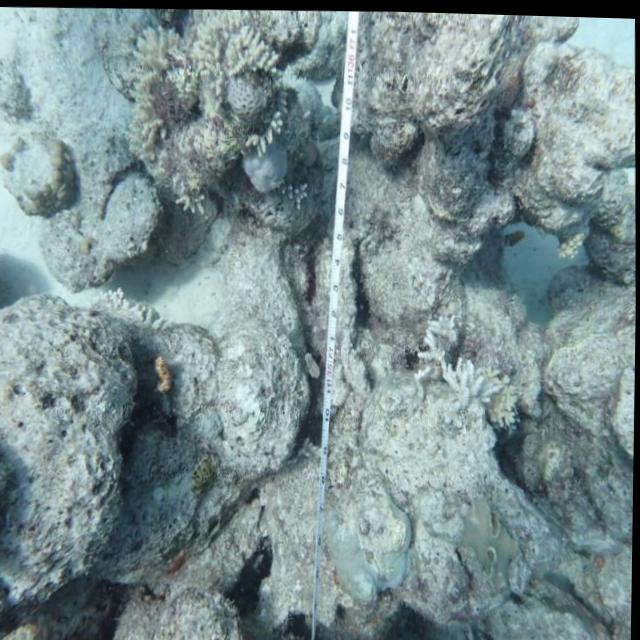Bleached Coral: (121, 21, 309, 170), (406, 302, 516, 436), (82, 276, 168, 335)
